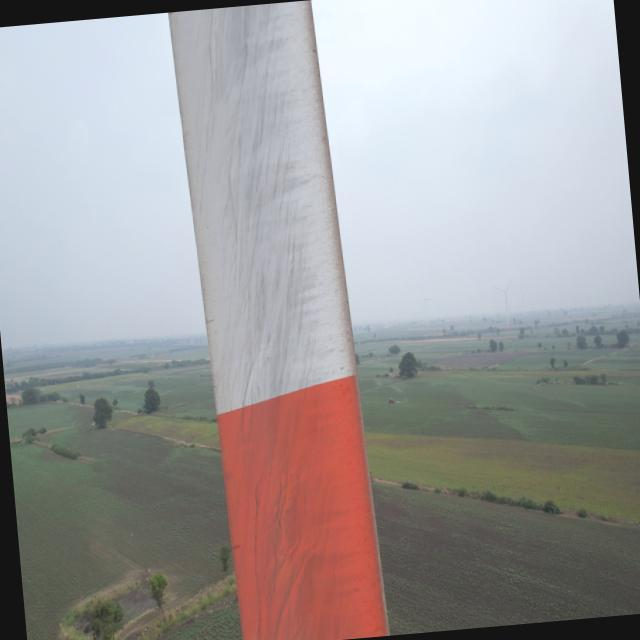Dirt: (165, 6, 390, 640)
